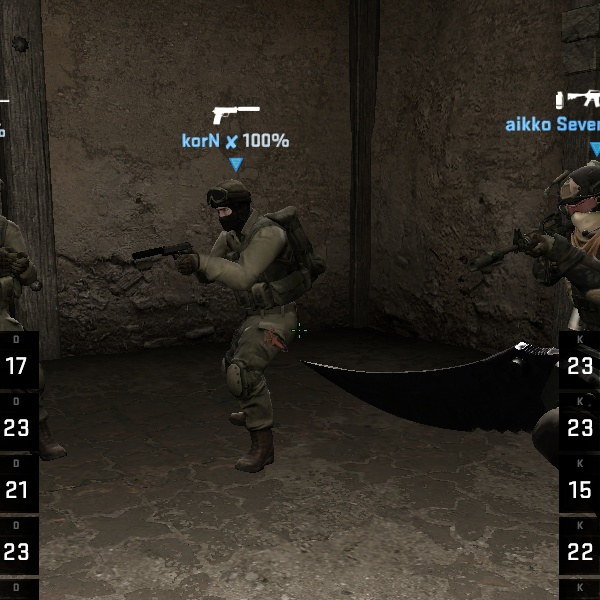ct_body: (171, 171, 316, 461)
ct_head: (552, 155, 598, 240), (201, 177, 261, 236)
